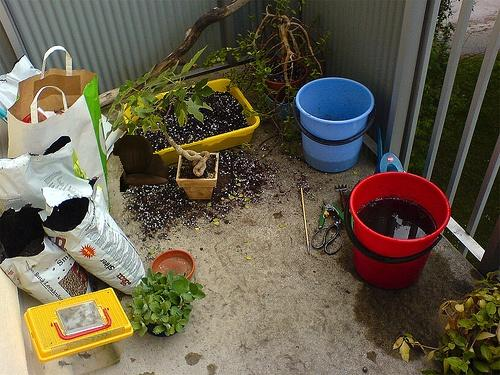tampered: (114, 136, 169, 192)
